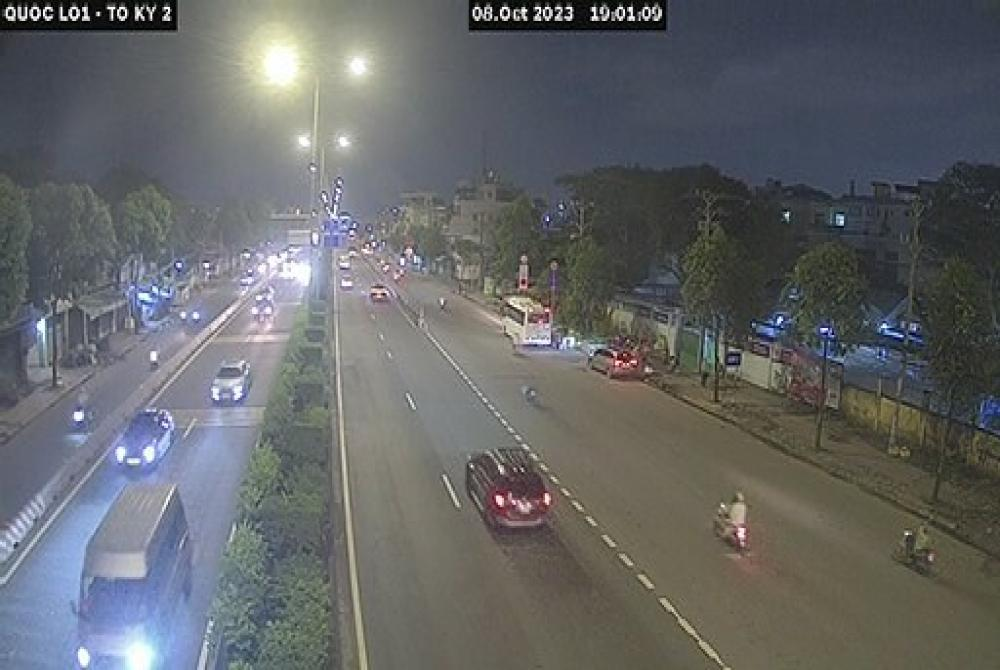bus: (500, 281, 547, 360)
car: (60, 473, 191, 662), (452, 436, 562, 555), (116, 400, 188, 494), (196, 350, 262, 421)
